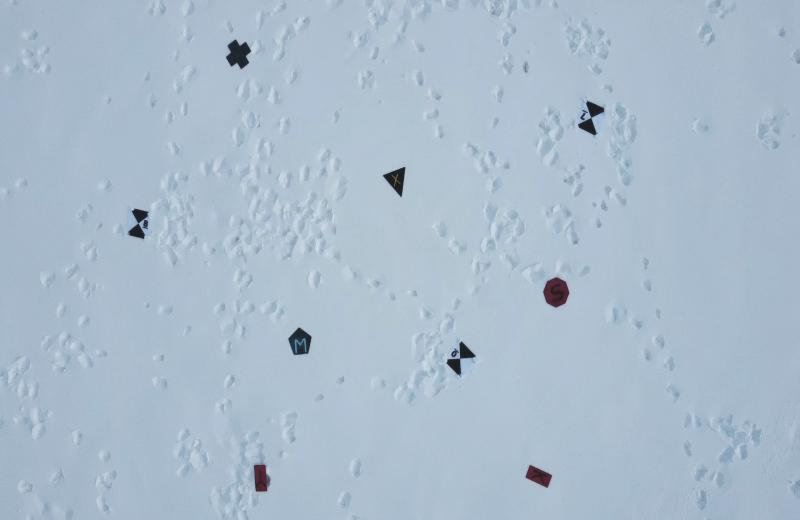Cross: (222, 37, 254, 71)
Octagon: (541, 274, 572, 312)
Pentagon: (287, 324, 314, 360)
Rectangle: (521, 459, 554, 493), (249, 459, 271, 496)
Triangle: (380, 163, 409, 202)
